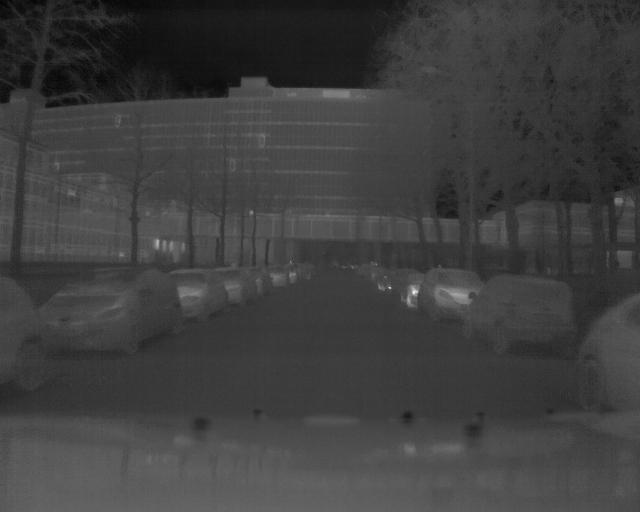car: (37, 265, 187, 355), (460, 275, 577, 356), (418, 269, 489, 322), (168, 268, 230, 323)
